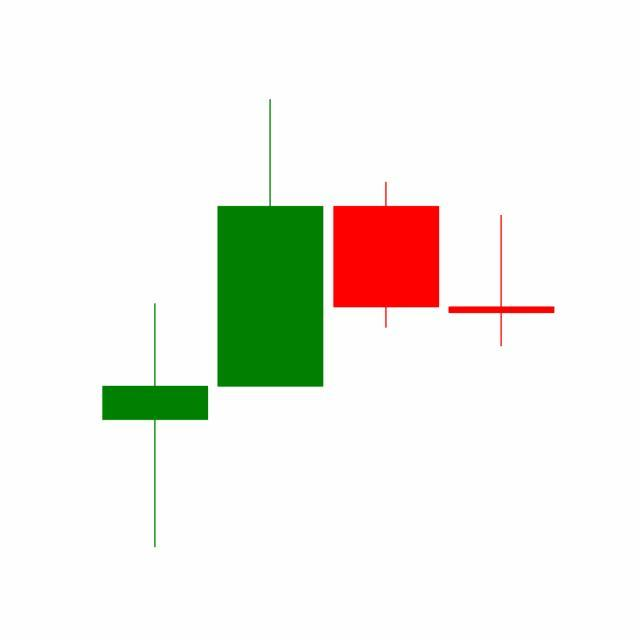Gravestone Doji: (444, 214, 560, 349)
